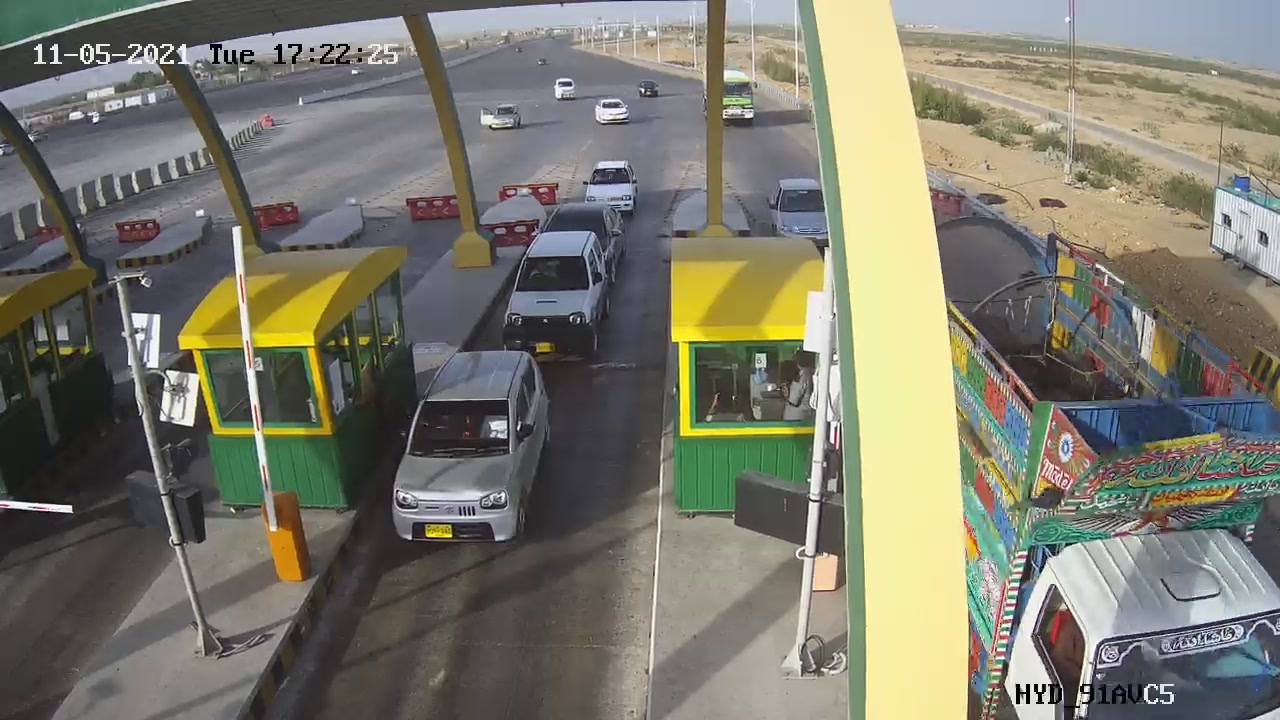F1: (365, 333, 572, 562), (490, 220, 630, 373)
